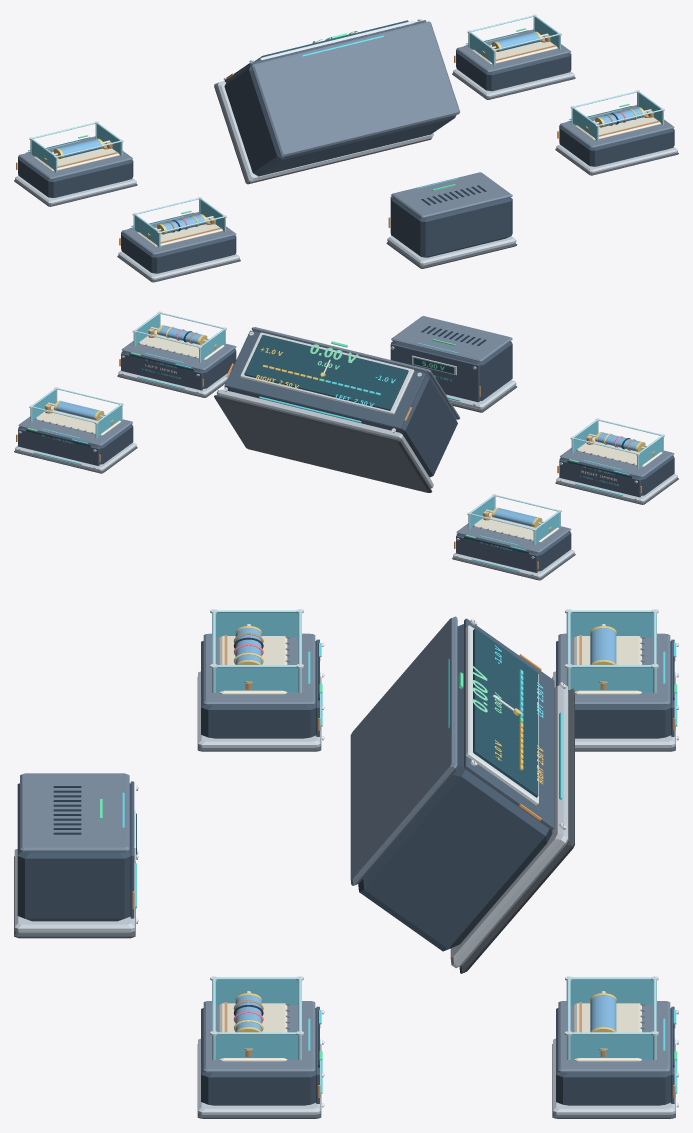
Rendered from Level35_Fitted_Assembly.fbx.
3 views of the same model, one above another, from view 1: azimuth 30°, elevation 25°; view 2: azimuth 150°, elevation 25°; view 3: azimuth 270°, elevation 25° (orthographic). The views are drawn at different scales.
Visible parts, largest first — view 1: L35_Meter_Static__mid_steel, L35_Meter_Static__graphite, L35_Supply_Static__graphite, L35_Supply_Static__mid_steel, L35_LeftUpper_Static__graphite, L35_RightLower_Static__graphite, L35_LeftLower_Static__graphite, L35_RightUpper_Static__graphite, L35_Meter_Static__titanium, L35_RightLower_Static__mid_steel, L35_LeftLower_Static__mid_steel, L35_LeftUpper_Static__mid_steel (+24 smaller); view 2: L35_Meter_Static__rubber, L35_Meter_Static__screen, L35_Meter_Static__graphite, L35_Meter_Static__deep_steel, L35_Supply_Static__mid_steel, L35_Supply_Static__deep_steel, L35_Meter_Static__titanium, L35_Supply_Static__graphite, L35_LeftUpper_Static__deep_steel, L35_RightLower_Static__deep_steel, L35_LeftLower_Static__deep_steel, L35_RightUpper_Static__deep_steel (+30 smaller); view 3: L35_Meter_Static__graphite, L35_Meter_Static__mid_steel, L35_Supply_Static__mid_steel, L35_Supply_Static__graphite, L35_Meter_Static__screen, L35_Meter_Static__titanium, L35_LeftLower_Static__graphite, L35_LeftUpper_Static__graphite, L35_RightUpper_Static__graphite, L35_Meter_Static__deep_steel, L35_LeftUpper_Static__acrylic, L35_RightUpper_Static__acrylic (+27 smaller).
Part boxes in pixels (x1,y1,x2,y2): L35_Meter_Static__mid_steel: (251,21,459,156); L35_Meter_Static__graphite: (224,65,456,176); L35_Supply_Static__graphite: (391,197,512,257); L35_Supply_Static__mid_steel: (391,172,512,218); L35_LeftUpper_Static__graphite: (559,126,674,166); L35_RightLower_Static__graphite: (18,157,133,197); L35_LeftLower_Static__graphite: (456,51,571,91); L35_RightUpper_Static__graphite: (121,233,236,273); L35_Meter_Static__titanium: (216,81,433,182); L35_RightLower_Static__mid_steel: (18,136,132,179); L35_LeftLower_Static__mid_steel: (456,29,571,72); L35_LeftUpper_Static__mid_steel: (560,105,674,147); L35_Meter_Static__rubber: (214,395,432,492); L35_Meter_Static__screen: (244,335,408,410); L35_Meter_Static__graphite: (224,332,457,477); L35_Meter_Static__deep_steel: (224,330,426,429); L35_Supply_Static__mid_steel: (391,316,512,405); L35_Supply_Static__deep_steel: (390,343,479,402); L35_Meter_Static__titanium: (216,389,433,488); L35_Supply_Static__graphite: (391,341,512,400); L35_LeftUpper_Static__deep_steel: (121,353,202,390); L35_RightLower_Static__deep_steel: (456,535,537,572); L35_LeftLower_Static__deep_steel: (18,428,99,465); L35_RightUpper_Static__deep_steel: (559,460,640,497); L35_Meter_Static__graphite: (358,624,552,951); L35_Meter_Static__mid_steel: (350,616,563,885); L35_Supply_Static__mid_steel: (20,773,138,921); L35_Supply_Static__graphite: (17,783,130,921); L35_Meter_Static__screen: (473,628,538,797); L35_Meter_Static__titanium: (450,685,568,967); L35_LeftLower_Static__graphite: (556,1008,671,1105); L35_LeftUpper_Static__graphite: (201,1008,316,1105); L35_RightUpper_Static__graphite: (201,641,316,738); L35_Meter_Static__deep_steel: (464,618,554,829); L35_LeftUpper_Static__acrylic: (215,979,298,1059); L35_RightUpper_Static__acrylic: (215,612,298,692).
Size of the model in its own units: 144 by 33.57 by 91.85.
